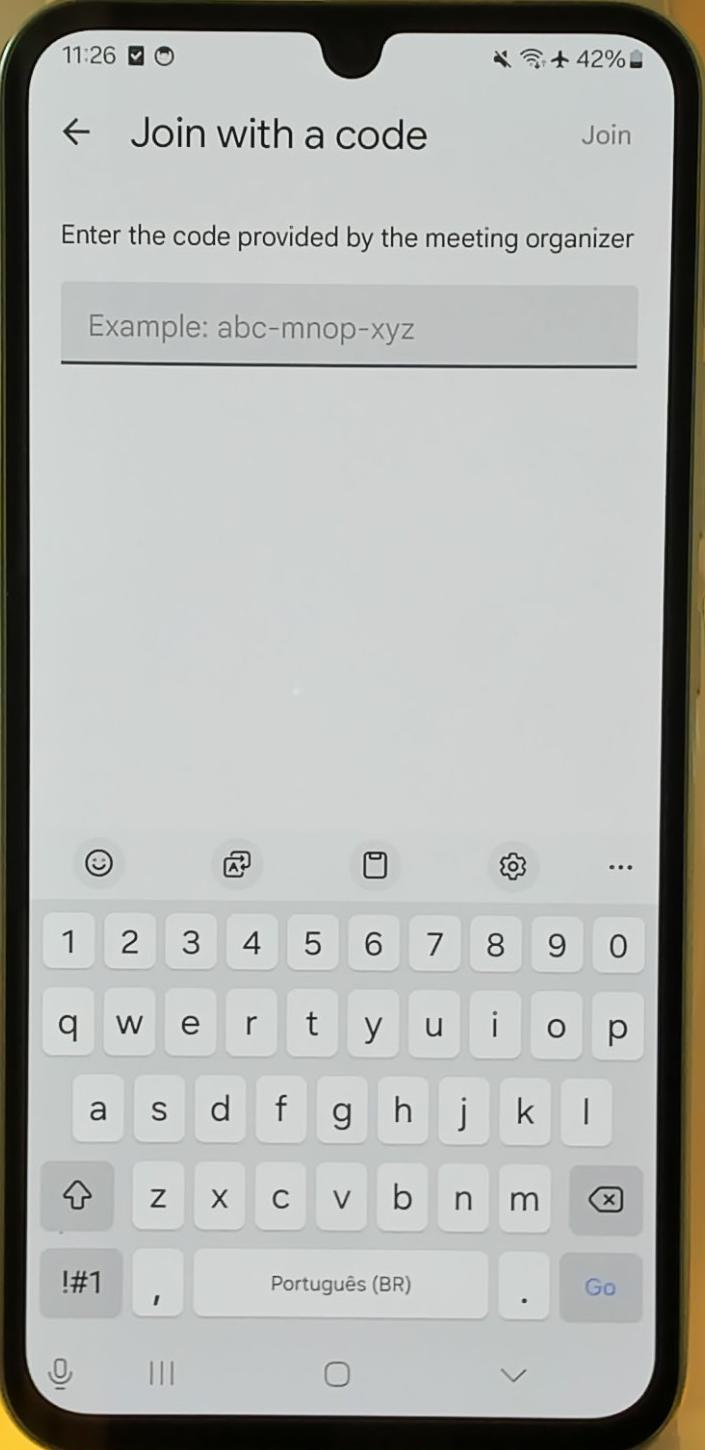CommunBotton: (208, 835, 273, 894), (347, 836, 407, 895), (72, 832, 124, 894), (486, 837, 544, 892), (59, 113, 96, 152), (44, 1355, 77, 1394), (145, 1354, 178, 1391), (322, 1357, 355, 1390), (598, 857, 639, 876), (497, 1362, 529, 1385)
TextField: (60, 281, 640, 370)
TextKeyboard: (33, 901, 654, 1332)
